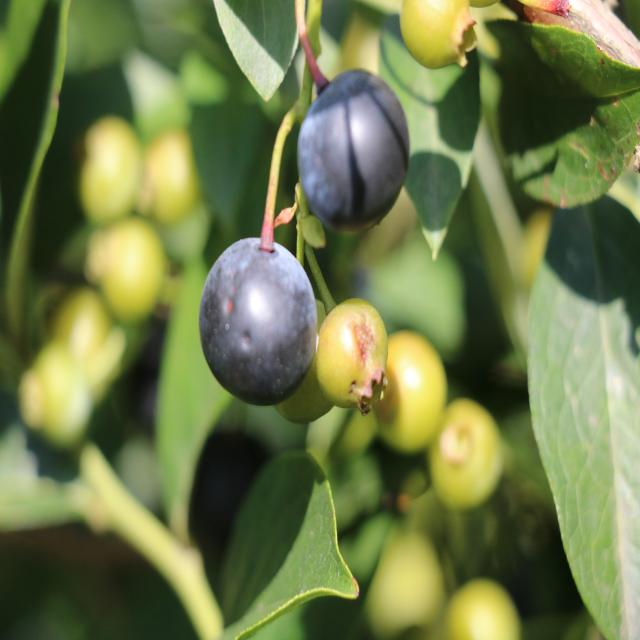blueberry: (291, 66, 413, 240), (196, 235, 316, 405)
blueberry-unripe: (314, 295, 387, 413), (373, 332, 446, 444), (435, 399, 503, 505), (399, 0, 478, 73)
